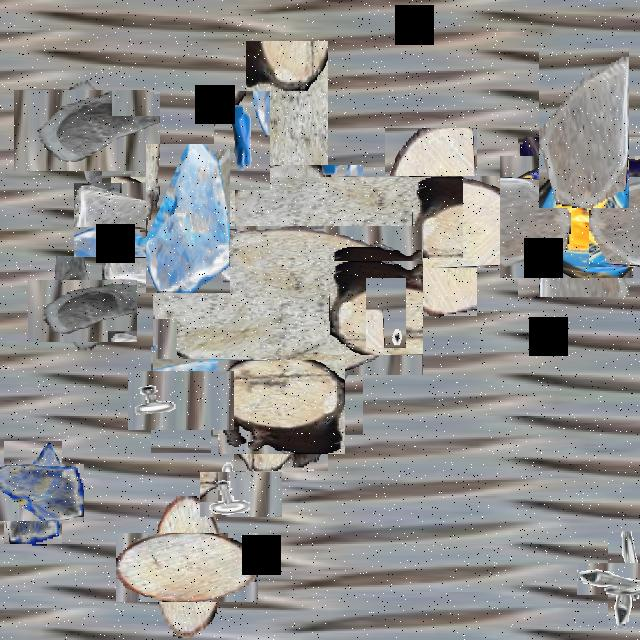glass: (539, 48, 629, 208), (30, 73, 144, 187), (146, 144, 230, 293), (88, 169, 190, 272), (39, 268, 125, 354), (0, 452, 73, 532)
metal: (140, 358, 222, 442), (214, 91, 270, 190), (209, 462, 273, 526), (592, 547, 640, 611), (366, 278, 406, 348), (610, 178, 640, 249)
plastic: (178, 108, 396, 326), (508, 146, 640, 287)
wood: (183, 196, 393, 406), (361, 152, 501, 292), (226, 352, 336, 462), (134, 514, 240, 620)
